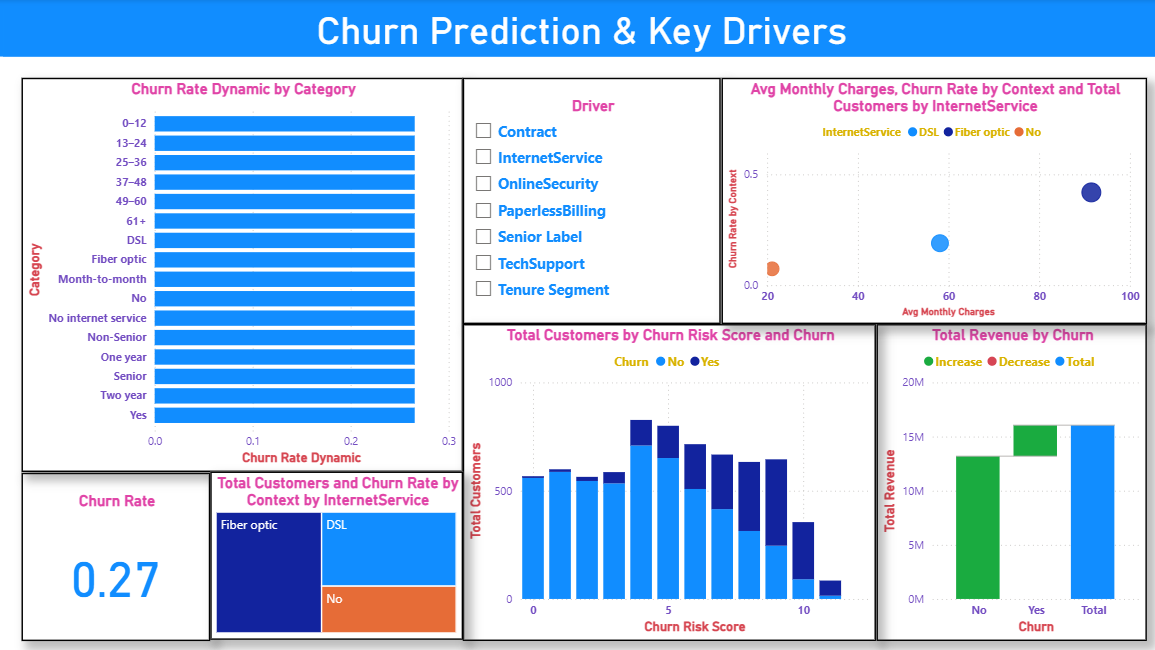

The dashboard page shown, as its layout file describes it:
{"tool":"powerbi","page":{"name":"Page 4","canvas":[1280,720],"ordinal":3},"visuals":[{"type":"textbox","title":"Churn Prediction & Key Drivers","box":[0,0,1280.3,64.6],"z":0},{"type":"card","title":"Churn Rate","fields":{"Values":["CustomerChurnAnalysis.Churn Rate"]},"box":[25,519.8,207,185],"z":1000},{"type":"clusteredBarChart","fields":{"Category":["DynamicCategories.Category"],"Y":["DynamicCategories.Churn Rate Dynamic"]},"box":[25,86.6,484.5,433.1],"z":2000},{"type":"slicer","title":"Driver","fields":{"Values":["DynamicCategories.Driver"]},"box":[509.5,86.6,283.4,270.2],"z":3000},{"type":"waterfallChart","fields":{"Category":["CustomerChurnAnalysis.Churn"],"Y":["CustomerChurnAnalysis.Total Revenue"]},"box":[963.2,356.8,296.6,348],"z":4000},{"type":"columnChart","fields":{"Category":["CustomerChurnAnalysis.Churn Risk Score"],"Y":["CustomerChurnAnalysis.Total Customers"],"Series":["CustomerChurnAnalysis.Churn"]},"box":[509.5,356.8,453.7,348],"z":5000},{"type":"scatterChart","fields":{"X":["CustomerChurnAnalysis.Avg Monthly Charges"],"Y":["CustomerChurnAnalysis.Churn Rate by Context"],"Size":["CustomerChurnAnalysis.Total Customers"],"Series":["CustomerChurnAnalysis.InternetService"]},"box":[792.8,86.6,466.9,270.2],"z":6000},{"type":"treemap","fields":{"Group":["CustomerChurnAnalysis.Segment Hierarchy.Contract","CustomerChurnAnalysis.InternetService","CustomerChurnAnalysis.Tenure Segment"],"Values":["CustomerChurnAnalysis.Total Customers"]},"box":[231.7,519.3,277.5,184.5],"z":7000}]}

Visuals, with their boxes in screenshot pixels (x1, y1, x2, y2), scaled from the page's 1280x720 canvas onto the 1155x650 screenshot:
"Churn Prediction & Key Drivers" textbox: 0:0:1154:58
"Churn Rate" card: 23:469:209:636
clusteredBarChart - DynamicCategories.Category x DynamicCategories.Churn Rate Dynamic: 23:78:460:469
"Driver" slicer: 460:78:715:322
waterfallChart - CustomerChurnAnalysis.Churn x CustomerChurnAnalysis.Total Revenue: 869:322:1137:636
columnChart - CustomerChurnAnalysis.Churn Risk Score x CustomerChurnAnalysis.Total Customers: 460:322:869:636
scatterChart - CustomerChurnAnalysis.Avg Monthly Charges x CustomerChurnAnalysis.Churn Rate by Context: 715:78:1137:322
treemap - CustomerChurnAnalysis.Segment Hierarchy.Contract x CustomerChurnAnalysis.InternetService: 209:469:459:635
